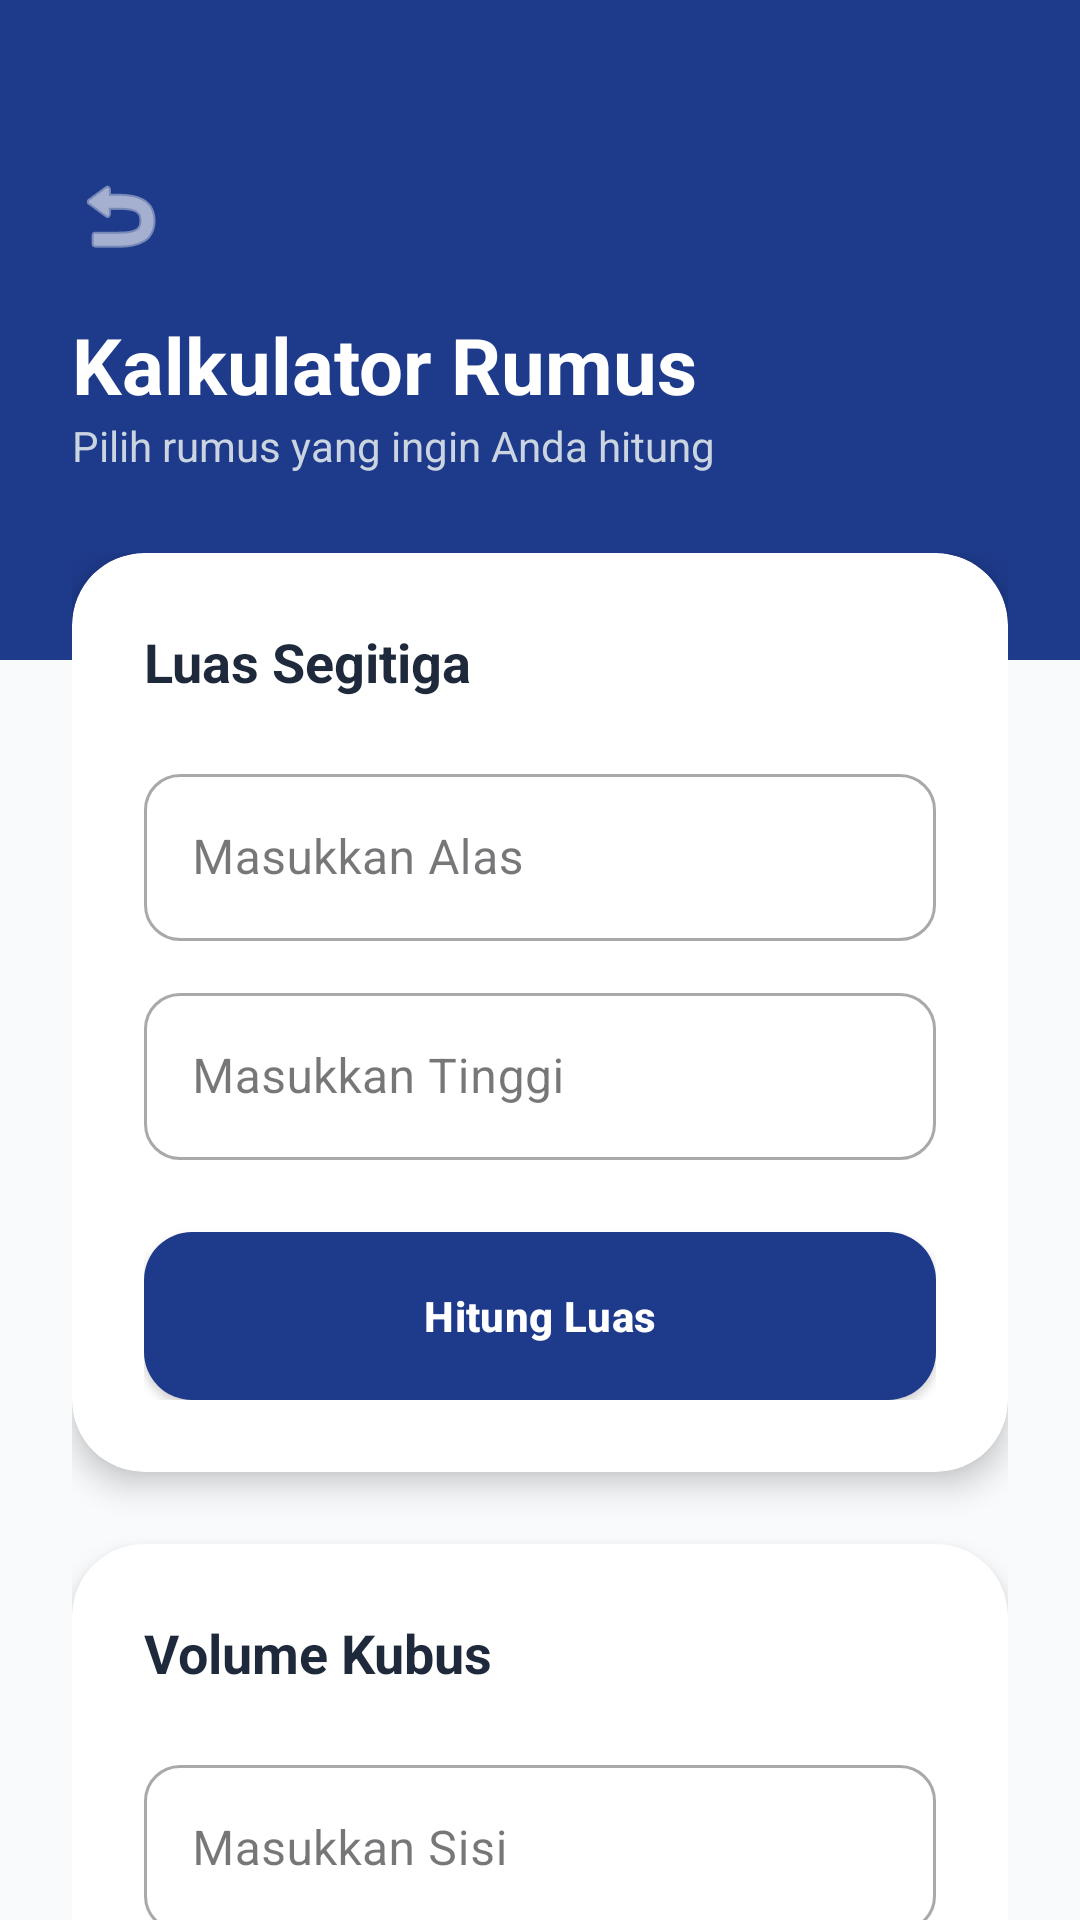

Icons on this 1080×1920 Android screen, each with the point to tap as point (x, y):
Kembali: point (121, 216)
